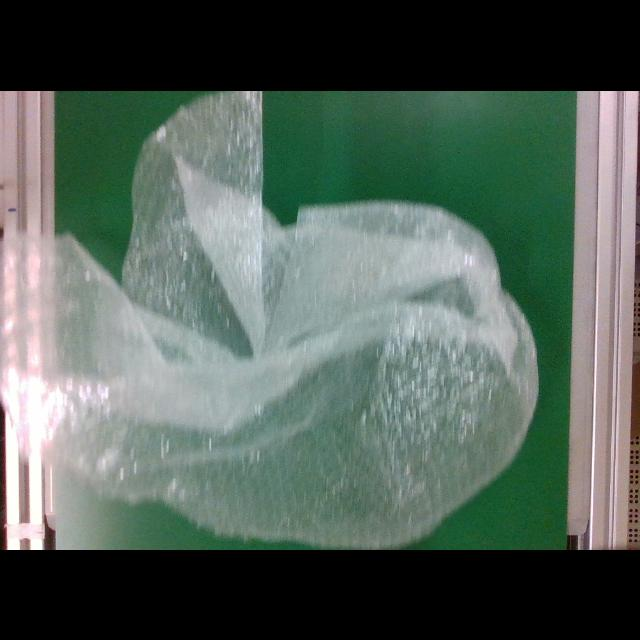scrap_plastic: (57, 92, 540, 550)
